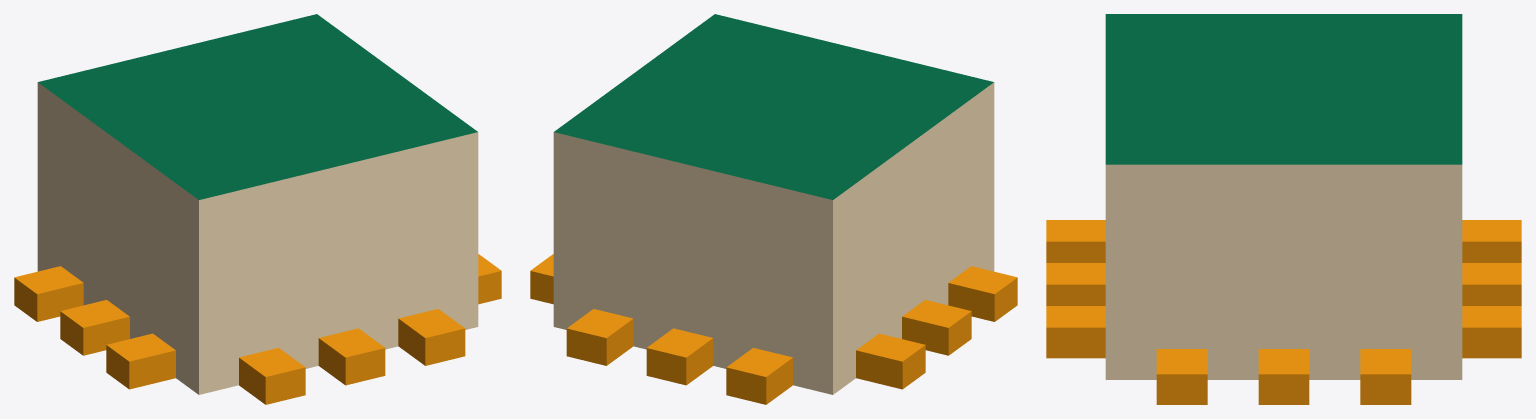
File: socket.fbx
3 views of the same model, side by side, from view 1: azimuth 30°, elevation 25°; view 2: azimuth 150°, elevation 25°; view 3: azimuth 270°, elevation 25° (orthographic). The views are drawn at different scales.
Visible parts, largest first — view 1: Cube; view 2: Cube; view 3: Cube.
Part boxes in pixels (left/top/right/bottom): Cube: left=14, top=14, right=501, bottom=404; Cube: left=530, top=14, right=1017, bottom=404; Cube: left=1046, top=14, right=1521, bottom=404.
Bounding box in the file's own units: 80 × 40 × 80.
